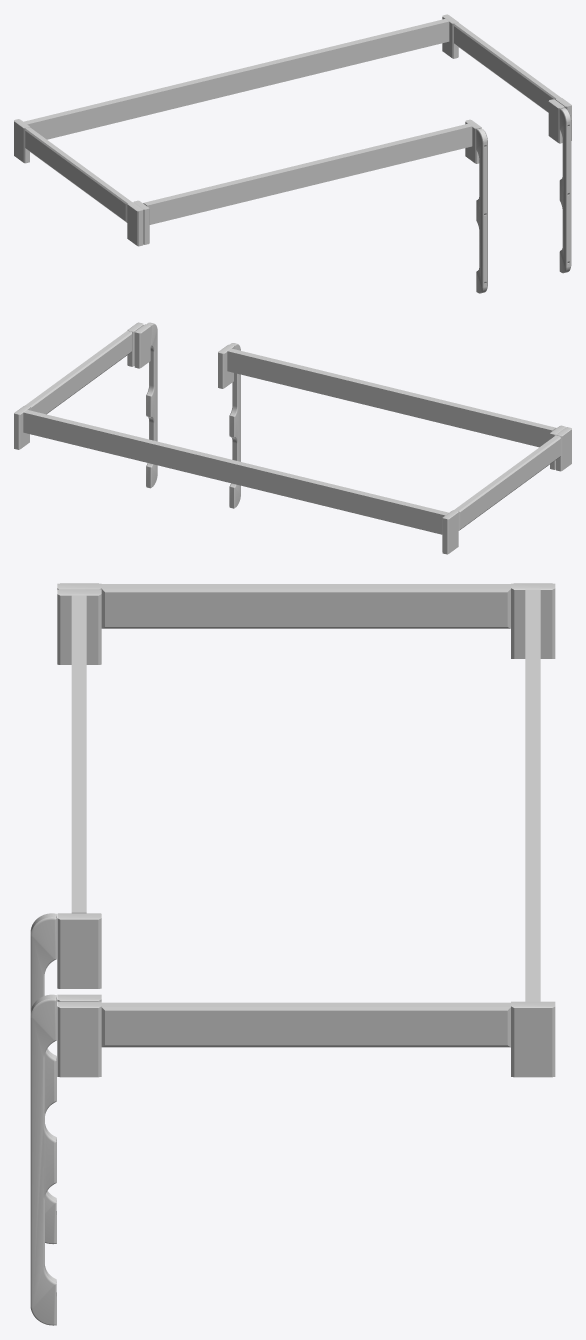
3 views of the same model, one above another, from view 1: azimuth 30°, elevation 25°; view 2: azimuth 150°, elevation 25°; view 3: azimuth 270°, elevation 25° (orthographic). The views are drawn at different scales.
Visible parts, largest first — view 1: wood011, wood02, wood01; view 2: wood011, wood02, wood01; view 3: wood011, wood02, wood01.
Boxes of the visible parts, x1,y1,x2,y2 form: wood011: (14,14,571,246); wood02: (559,107,571,273); wood01: (476,128,487,293); wood011: (14,322,571,554); wood02: (146,322,157,488); wood01: (229,343,240,508); wood011: (57,583,555,1077); wood02: (30,994,56,1325); wood01: (30,913,56,1244).
Bounding box in the file's own units: 2.06 × 0.7394 × 1.08.
Materials: 7 (6 with a texture image).
